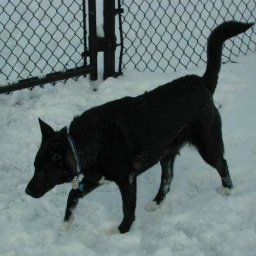dog: (23, 17, 248, 229)
